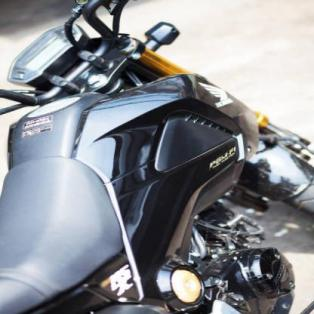Motocicleta: (1, 2, 313, 314)
